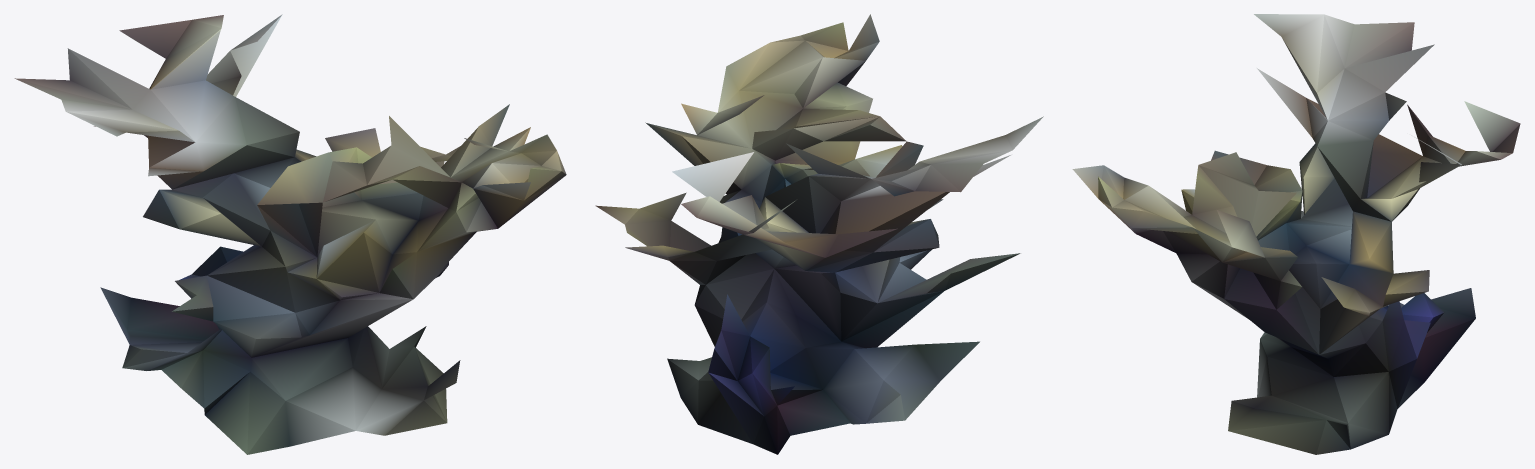
Rendered from elkhorn_lo.glb.
The picture shows the model from 3 angles, left to right: view 1: azimuth 30°, elevation 25°; view 2: azimuth 150°, elevation 25°; view 3: azimuth 270°, elevation 25°; orthographic projection. The views are drawn at different scales.
Parts seen in each view (by area): view 1: elkhorn; view 2: elkhorn; view 3: elkhorn.
Boxes of the visible parts, x1,y1,x2,y2 form: elkhorn: [14, 14, 566, 454]; elkhorn: [595, 14, 1043, 454]; elkhorn: [1072, 14, 1520, 454].
Size of the model in its own units: 3.02 by 2.36 by 3.21.
